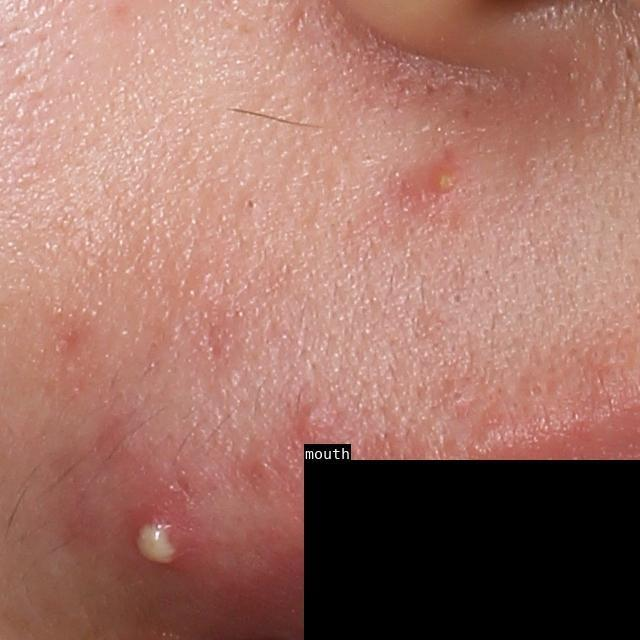comedo: (520, 152, 542, 174), (525, 378, 547, 399), (448, 285, 467, 306), (241, 197, 257, 213)
papule: (294, 402, 328, 440)
pustule: (119, 494, 216, 588), (425, 164, 464, 198)
